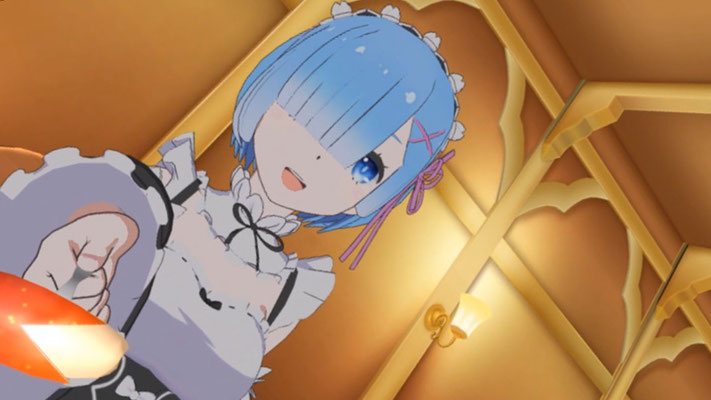rem: (1, 8, 464, 400)
